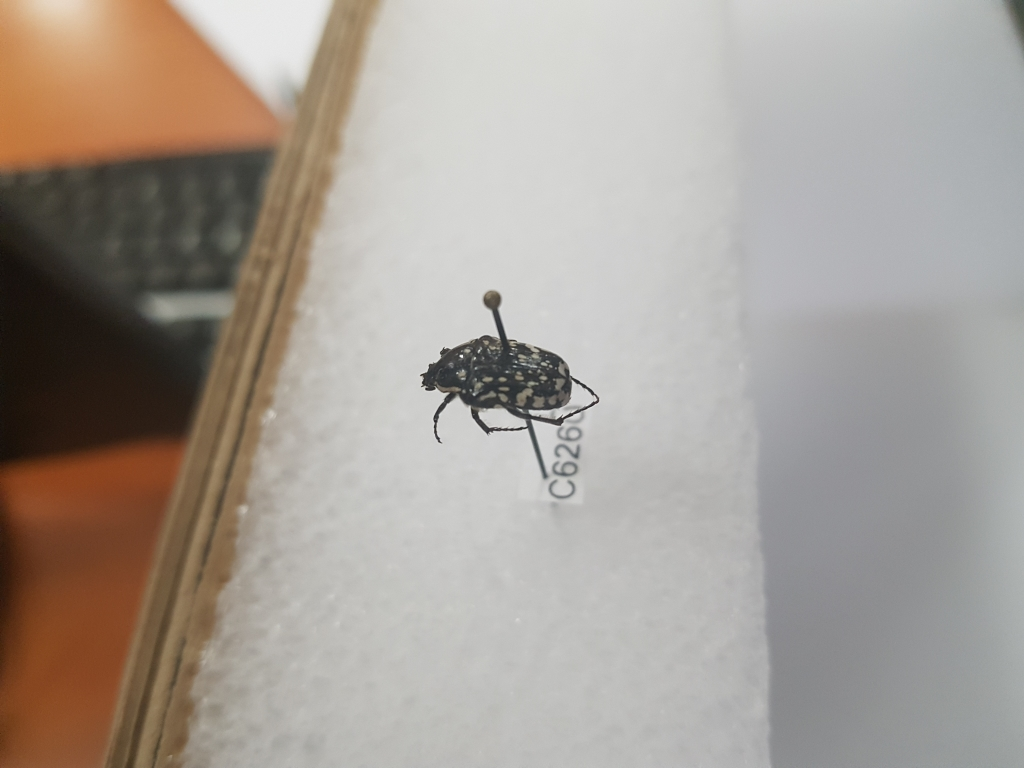Oxythyrea_funesta: (411, 331, 606, 447)
